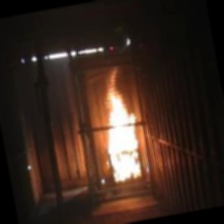fire: (91, 77, 149, 187)
